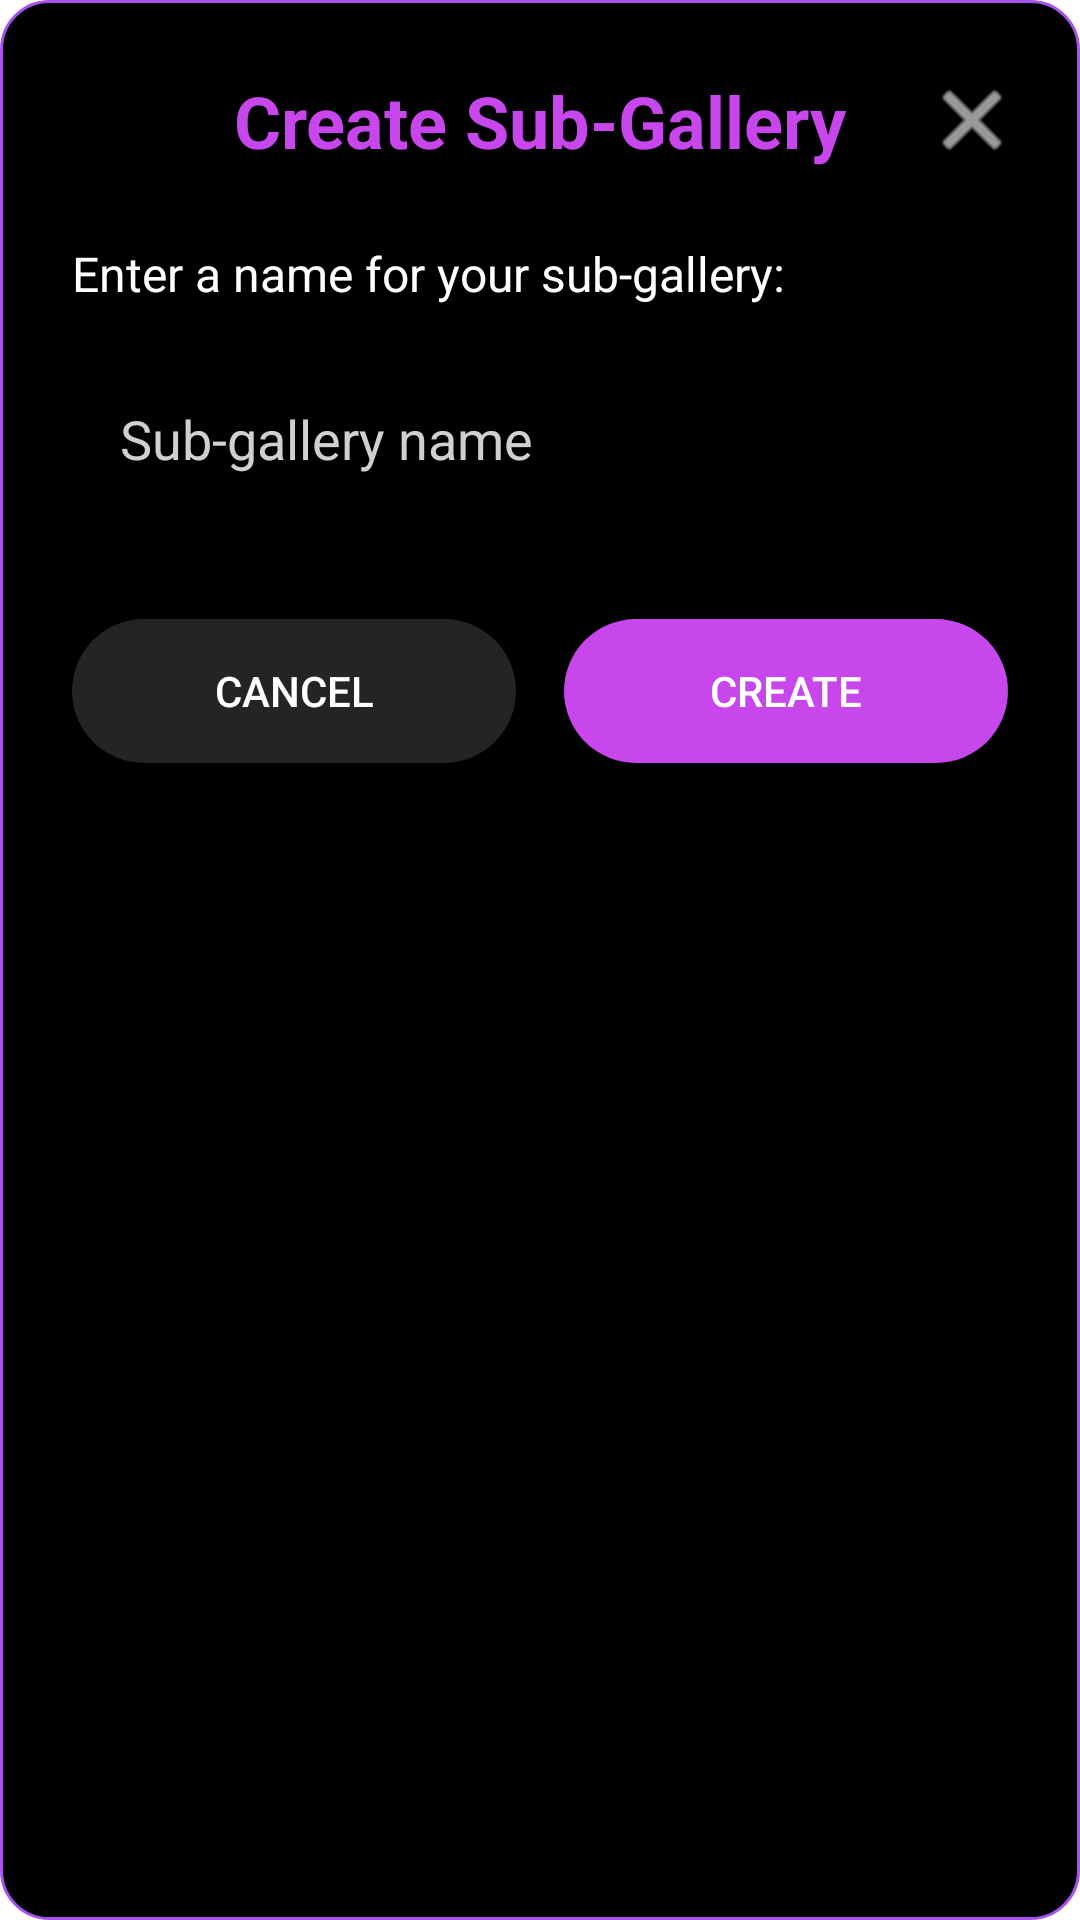

Named icons in this screenshot (1080w x 1920h) and their bounding boxes, detection(x1, y1, x2, y2):
Close dialog: detection(942, 90, 1002, 150)
